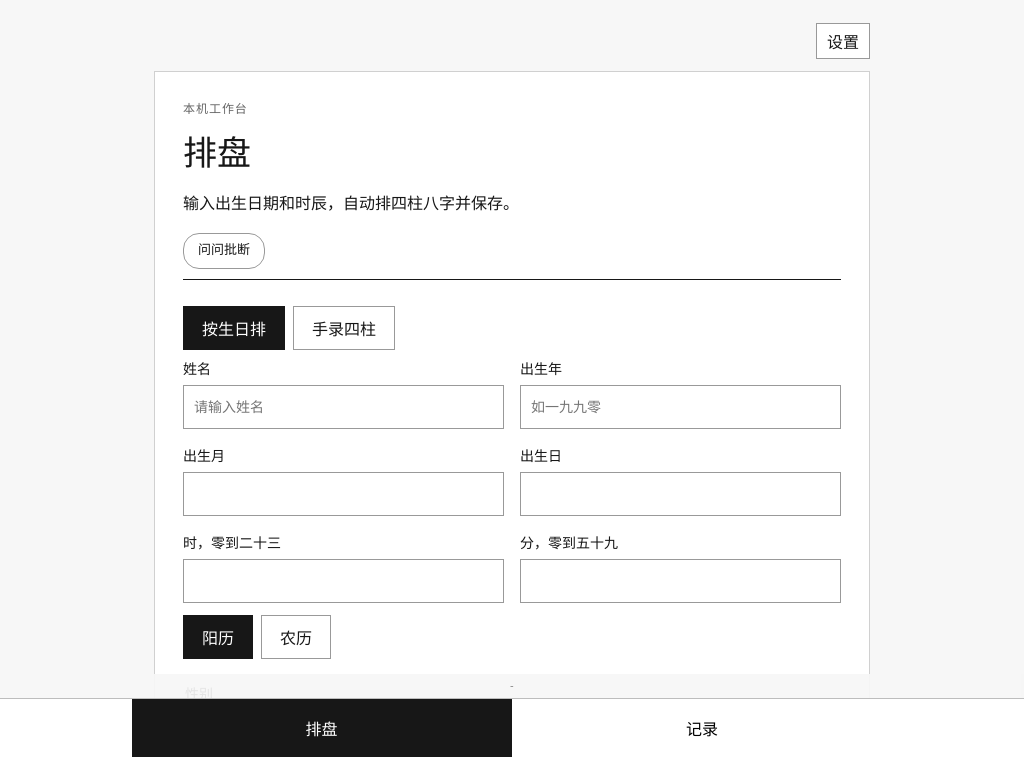
Test case: simplified chart application flow › keeps detailed non-AI data but hides ten-year lists and separates zodiac relations
The width and height of the screenshot is (1024, 757).
Click the button "记录". click: (702, 728)
box: [512,699,892,756]
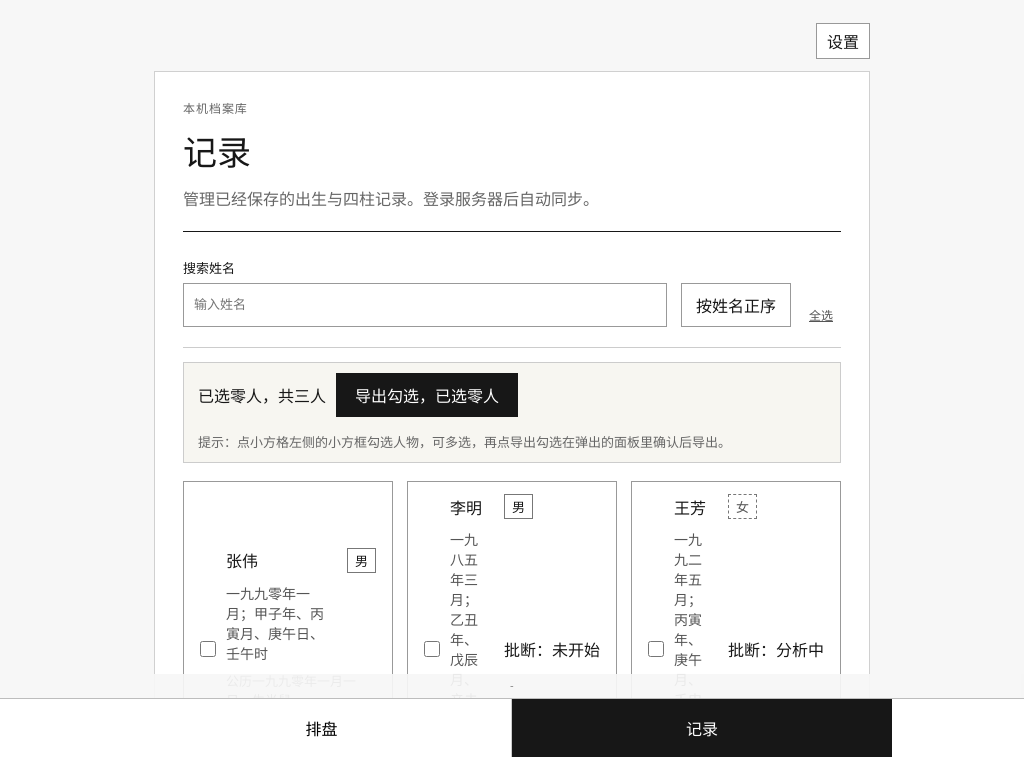
Click the button with aria-label "查看张伟". click: (301, 646)
box: [226,548,376,745]
(page scrolled)
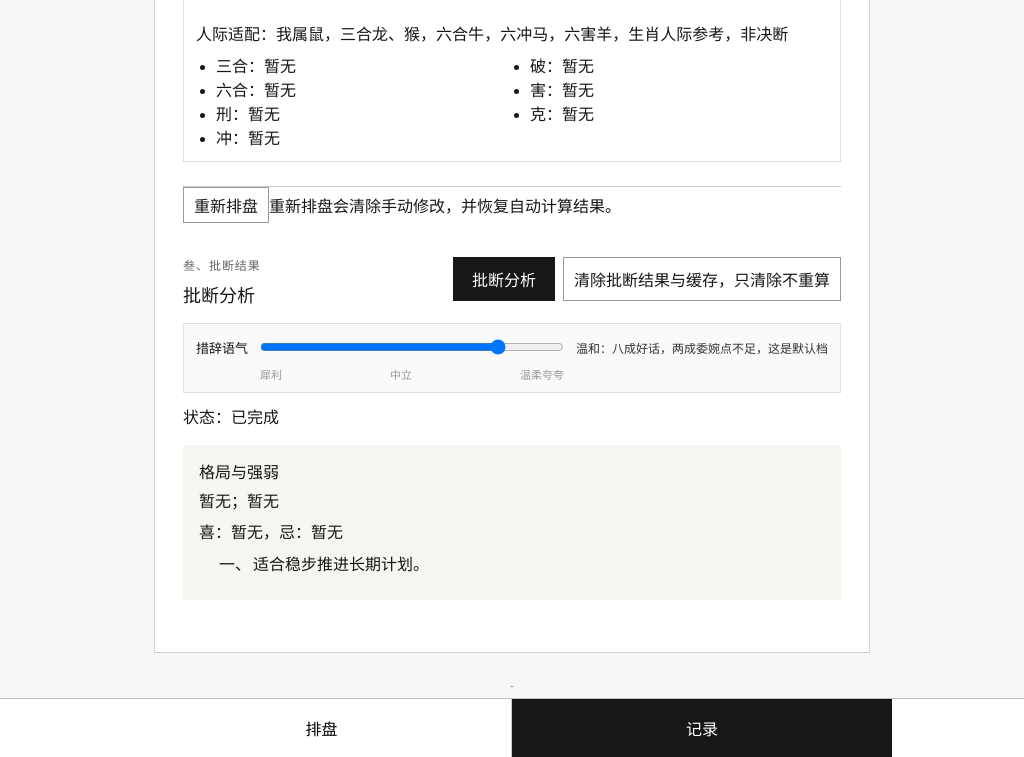
Now the text "破" is shown, box [530,58,546,75]
Now the list item "适合稳步推进长期计划。" is shown, box [253,556,429,573]
